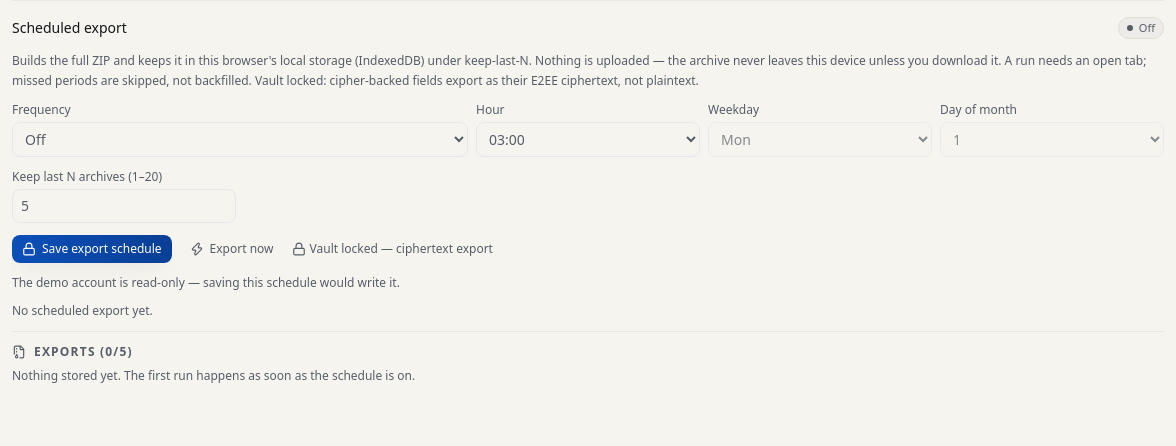
it: docs/47 §13 ex.4 — Export schedule → Save (F-2 measured repro) › demo: the real 403 renders demo-refusal + one info toast, NEVER role=alert
What coordinates should you click on to do the following:
click the button "Save export schedule"
I would click on:
 (92, 249)
Its box is [12,235,172,263].
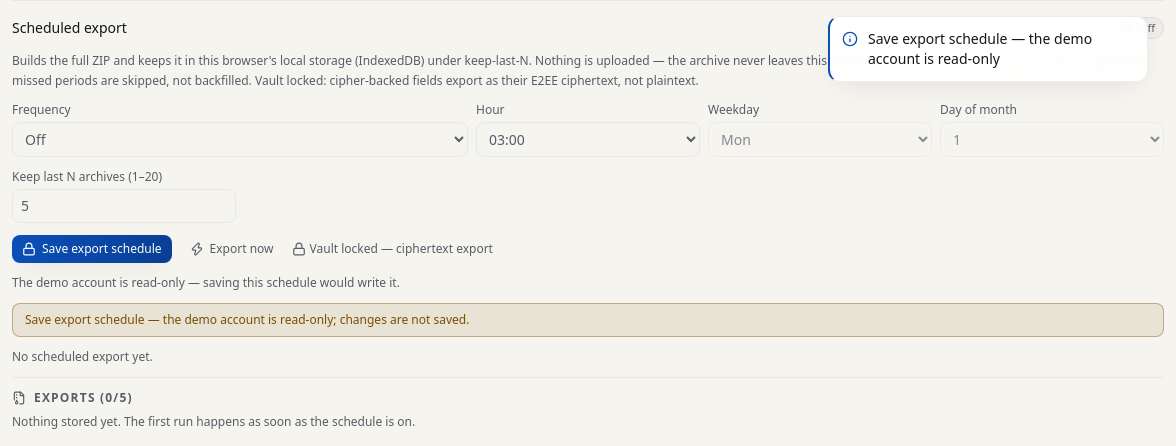
Check: the number of messages with test id "demo-refusal" is 1, box [12,303,1164,337]
Check: the message with test id "demo-refusal" shows "read-only", box [145,311,469,328]
Check: the text "Save export schedule — the demo account is read-only" is shown, box [868,29,1092,68]
